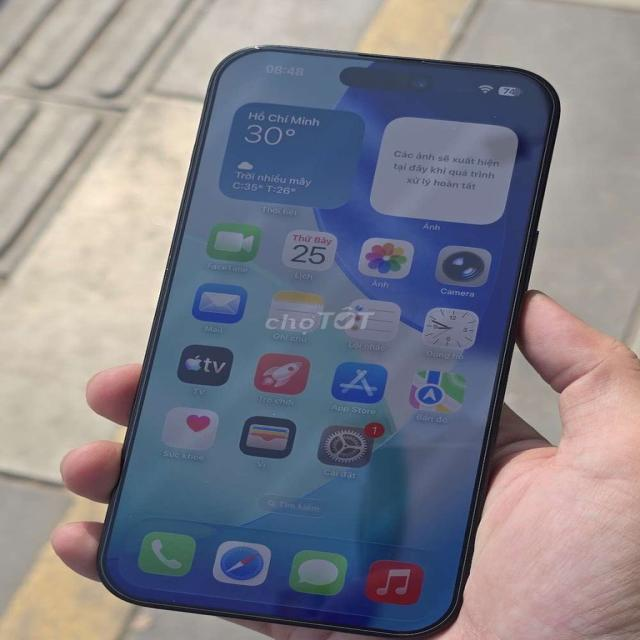scratch: (232, 38, 291, 67), (399, 49, 442, 78)
